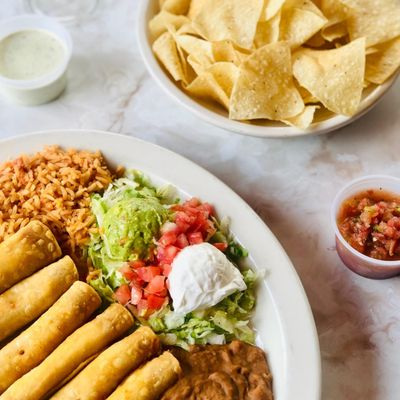curry: (88, 171, 169, 275)
sushi: (135, 0, 400, 144), (330, 176, 400, 279), (0, 14, 74, 107)
